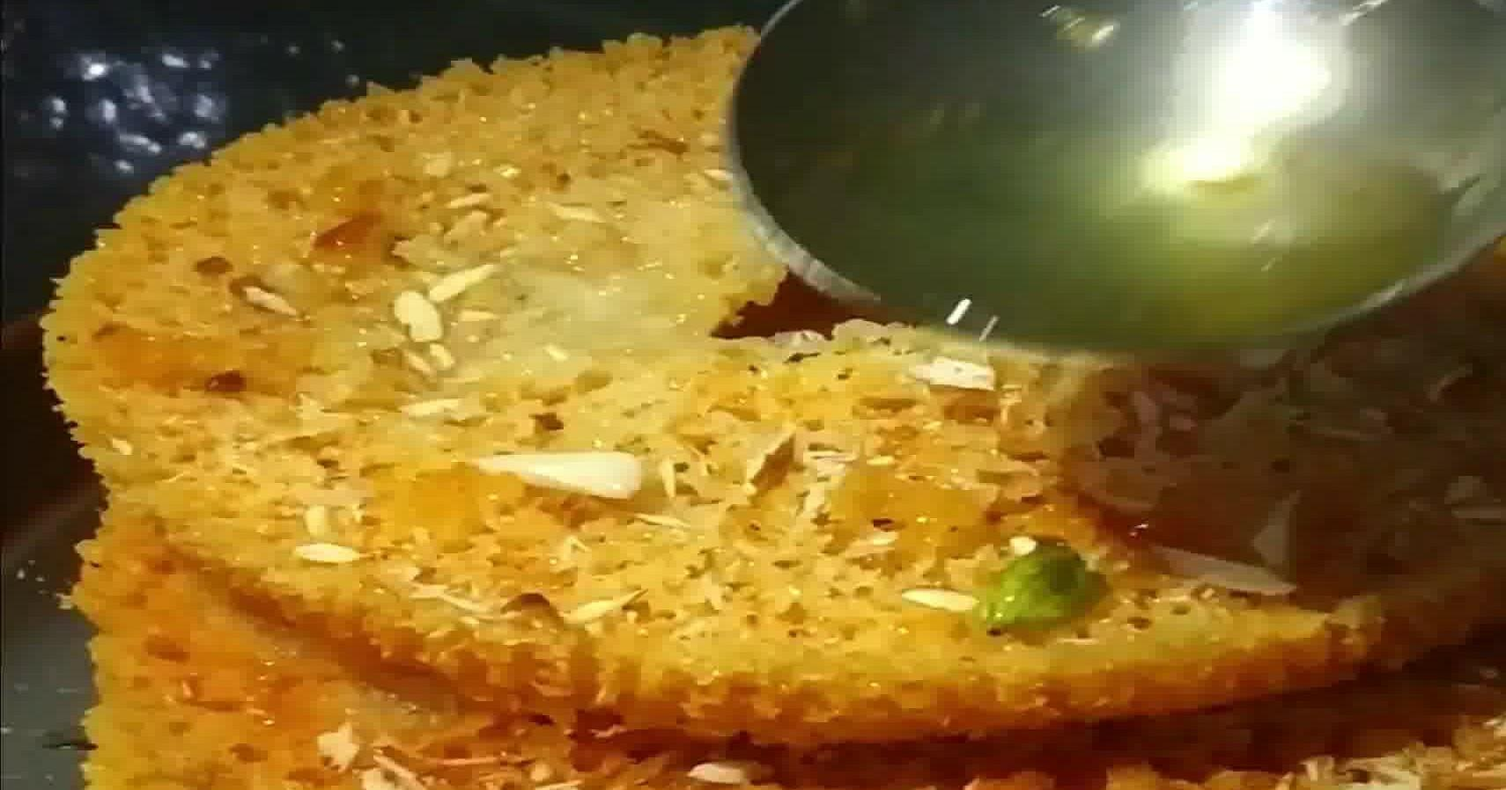Ghevar: (43, 26, 1506, 744), (77, 491, 1506, 790)
